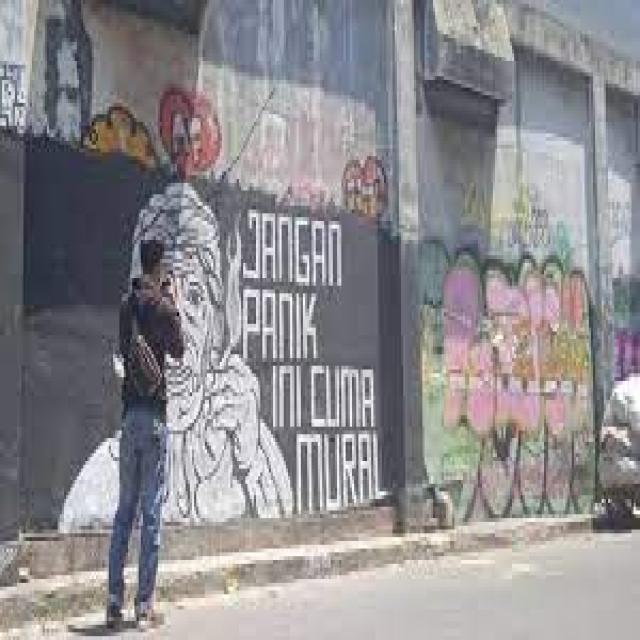-: (57, 183, 380, 532), (418, 238, 598, 517), (48, 2, 220, 178), (458, 171, 576, 257), (344, 155, 390, 214), (614, 275, 640, 377), (1, 60, 22, 118)
